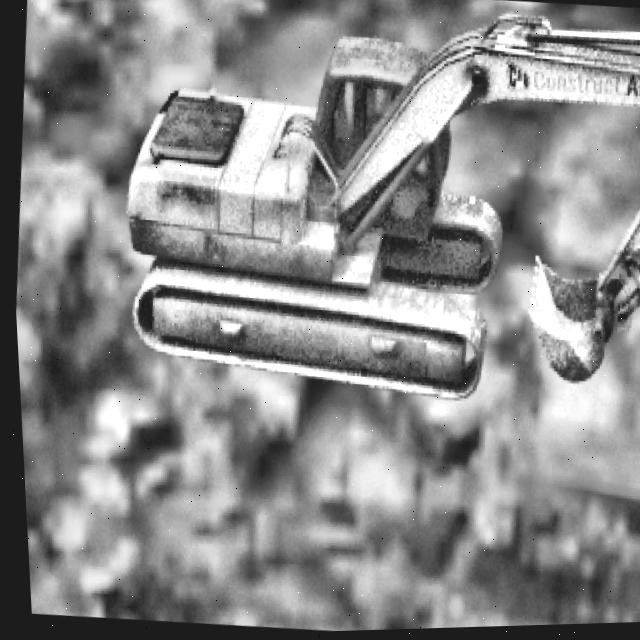excavator: (100, 0, 640, 425)
